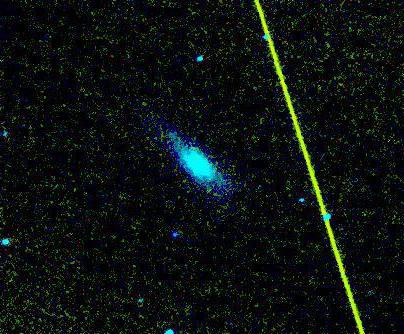star: (284, 103, 314, 133)
